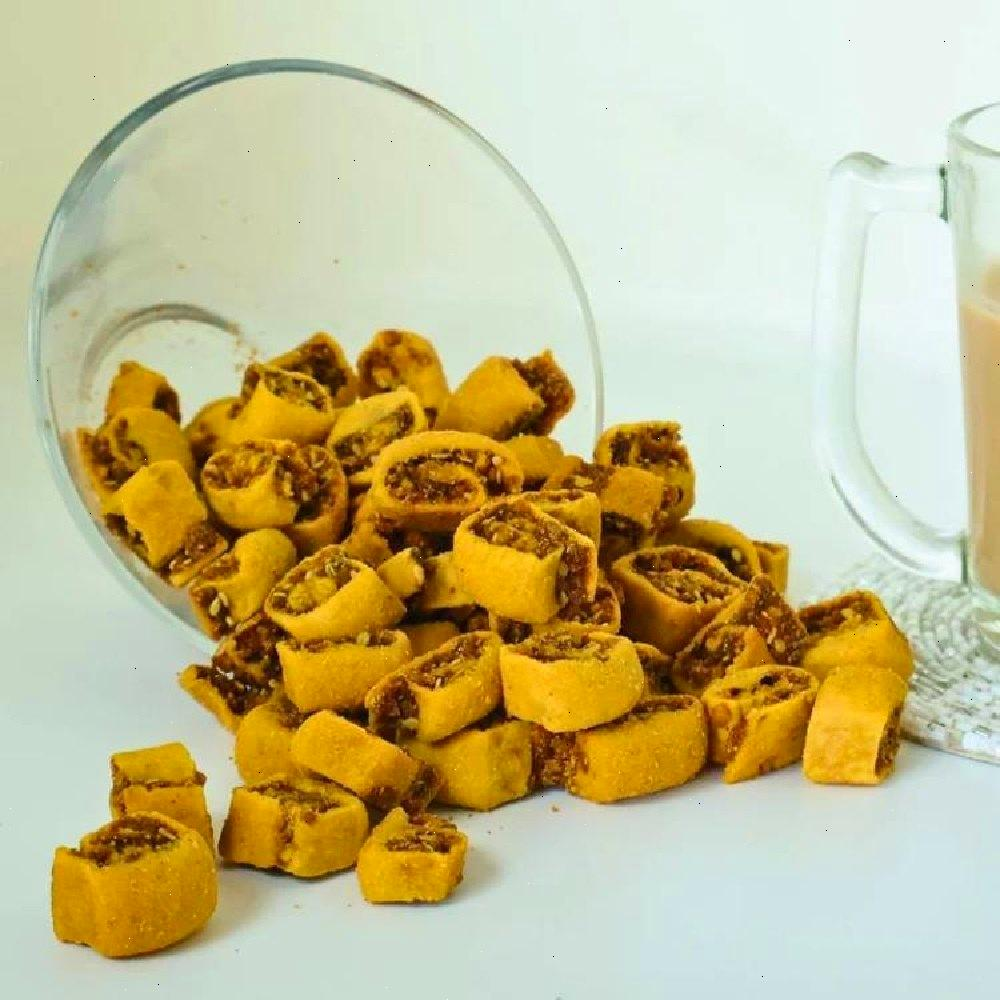bhakarwadi: (68, 320, 902, 929)
